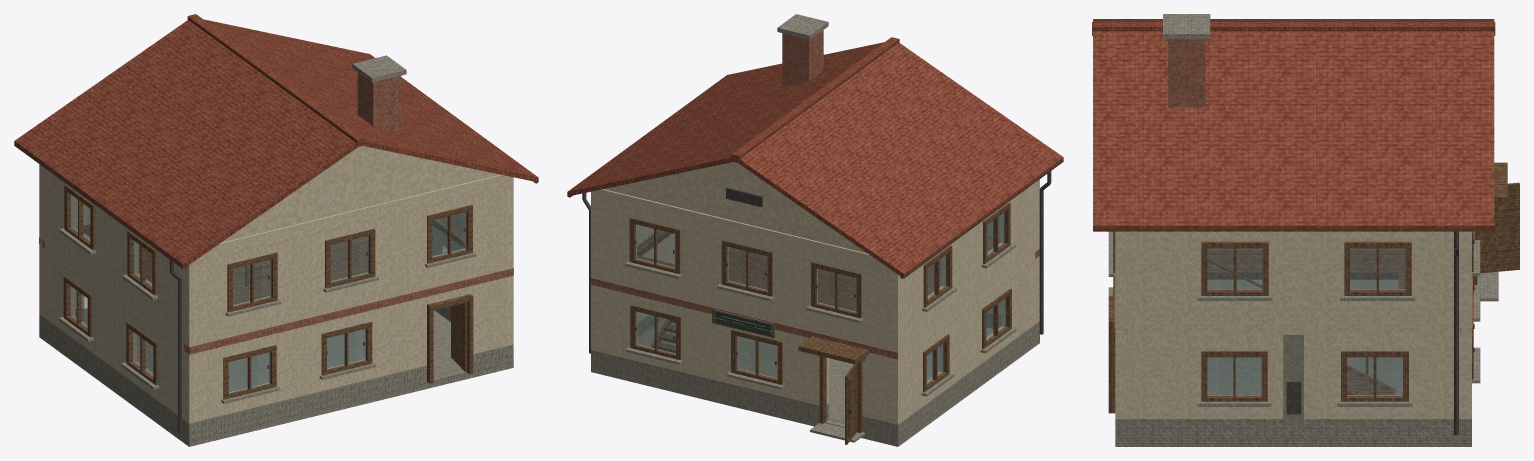
The model's file is PROJECT_Z_Alderbrook_Farmhouse.glb.
3 views of the same model, side by side, from view 1: azimuth 30°, elevation 25°; view 2: azimuth 150°, elevation 25°; view 3: azimuth 270°, elevation 25° (orthographic). The views are drawn at different scales.
Parts seen in each view (by area): view 1: Farmhouse_Roof_SlopeLeft, Farmhouse_Rear_WhitewashedMasonry, Farmhouse_Left_WhitewashedMasonry, Farmhouse_Roof_SlopeRight, Farmhouse_RearTriangularGable, Farmhouse_Rear_LowerPlinth, Farmhouse_GroundSlab_10x8m, Farmhouse_InteriorFinishedGround, Farmhouse_UpperFloor_WithOpenStairwell, Farmhouse_Rear_DecorativeBrickBand, Farmhouse_Left_LowerPlinth, Farmhouse_Roof_RidgeCap (+21 smaller); view 2: Farmhouse_Roof_SlopeLeft, Farmhouse_Front_WhitewashedMasonry, Farmhouse_Left_WhitewashedMasonry, Farmhouse_Roof_SlopeRight, Farmhouse_FrontTriangularGable, Farmhouse_Front_LowerPlinth, Farmhouse_UpperFloor_WithOpenStairwell, Farmhouse_GroundSlab_10x8m, Farmhouse_InteriorFinishedGround, Farmhouse_Left_LowerPlinth, Farmhouse_Roof_RidgeCap, Farmhouse_ChimneyMasonry (+24 smaller); view 3: Farmhouse_Roof_SlopeRight, Farmhouse_Right_WhitewashedMasonry, Farmhouse_Right_LowerPlinth, Farmhouse_InteriorFinishedGround, Farmhouse_Roof_RidgeCap, Farmhouse_UpperFloor_WithOpenStairwell, Farmhouse_GroundSlab_10x8m, Farmhouse_FrontEntryDoor_Leaf, Farmhouse_ChimneyMasonry, Farmhouse_RightWindow3_WindowBreakableGlass, Farmhouse_RightWindow4_WindowBreakableGlass, Farmhouse_Rear_WhitewashedMasonry (+19 smaller).
Boxes of the visible parts, bbox=[...] form: Farmhouse_Roof_SlopeLeft: bbox=[14, 20, 357, 268]; Farmhouse_Rear_WhitewashedMasonry: bbox=[184, 174, 513, 423]; Farmhouse_Left_WhitewashedMasonry: bbox=[44, 168, 184, 419]; Farmhouse_Roof_SlopeRight: bbox=[204, 19, 538, 182]; Farmhouse_RearTriangularGable: bbox=[221, 146, 499, 242]; Farmhouse_Rear_LowerPlinth: bbox=[184, 344, 513, 439]; Farmhouse_GroundSlab_10x8m: bbox=[39, 318, 513, 446]; Farmhouse_InteriorFinishedGround: bbox=[85, 310, 461, 391]; Farmhouse_UpperFloor_WithOpenStairwell: bbox=[77, 218, 464, 304]; Farmhouse_Rear_DecorativeBrickBand: bbox=[184, 268, 513, 354]; Farmhouse_Left_LowerPlinth: bbox=[44, 317, 184, 435]; Farmhouse_Roof_RidgeCap: bbox=[187, 14, 365, 147]; Farmhouse_Roof_SlopeLeft: bbox=[738, 43, 1063, 278]; Farmhouse_Front_WhitewashedMasonry: bbox=[591, 189, 902, 424]; Farmhouse_Left_WhitewashedMasonry: bbox=[902, 182, 1035, 420]; Farmhouse_Roof_SlopeRight: bbox=[567, 42, 883, 196]; Farmhouse_FrontTriangularGable: bbox=[604, 162, 867, 253]; Farmhouse_Front_LowerPlinth: bbox=[591, 350, 902, 439]; Farmhouse_UpperFloor_WithOpenStairwell: bbox=[637, 230, 1000, 311]; Farmhouse_GroundSlab_10x8m: bbox=[591, 336, 1039, 446]; Farmhouse_InteriorFinishedGround: bbox=[637, 318, 993, 423]; Farmhouse_Left_LowerPlinth: bbox=[902, 324, 1035, 436]; Farmhouse_Roof_RidgeCap: bbox=[731, 37, 899, 163]; Farmhouse_ChimneyMasonry: bbox=[782, 30, 823, 86]; Farmhouse_Roof_SlopeRight: bbox=[1093, 31, 1494, 231]; Farmhouse_Right_WhitewashedMasonry: bbox=[1126, 231, 1460, 418]; Farmhouse_Right_LowerPlinth: bbox=[1126, 419, 1460, 438]; Farmhouse_InteriorFinishedGround: bbox=[1207, 279, 1402, 394]; Farmhouse_Roof_RidgeCap: bbox=[1092, 22, 1495, 35]; Farmhouse_UpperFloor_WithOpenStairwell: bbox=[1207, 248, 1405, 288]; Farmhouse_GroundSlab_10x8m: bbox=[1115, 438, 1471, 446]; Farmhouse_FrontEntryDoor_Leaf: bbox=[1477, 182, 1519, 273]; Farmhouse_ChimneyMasonry: bbox=[1168, 39, 1205, 107]; Farmhouse_RightWindow3_WindowBreakableGlass: bbox=[1350, 248, 1405, 289]; Farmhouse_RightWindow4_WindowBreakableGlass: bbox=[1207, 248, 1262, 289]; Farmhouse_Rear_WhitewashedMasonry: bbox=[1115, 231, 1126, 418].
Bounding box in the file's own units: 10.97 × 8.97 × 9.59.
Materials: 9 (9 with a texture image).
